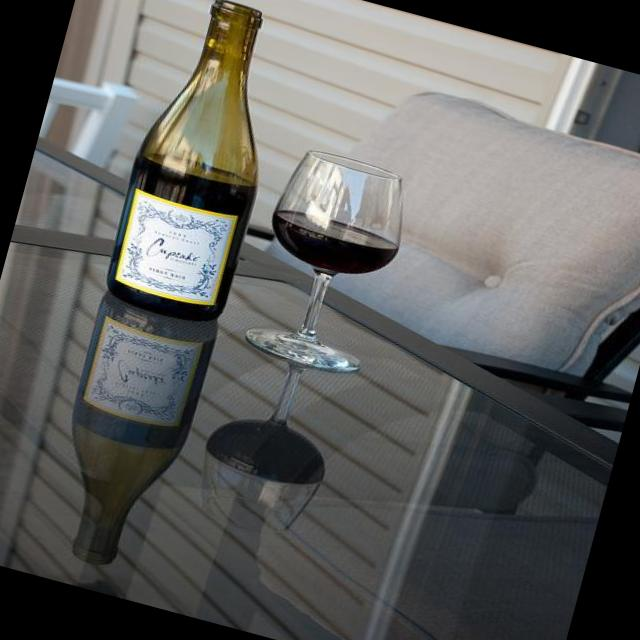bottle: (94, 0, 293, 327)
chair: (217, 50, 640, 437), (34, 66, 144, 172)
diningtable: (0, 132, 640, 640)
wine glass: (236, 143, 419, 384)
